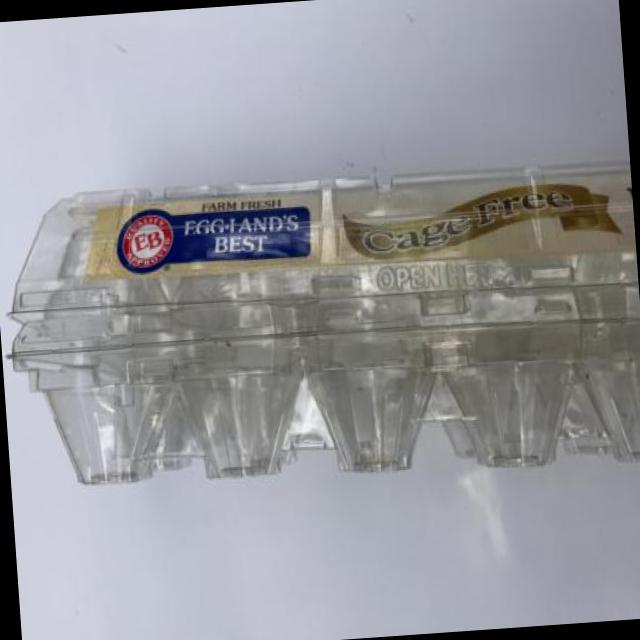Trash: (0, 130, 640, 511)
